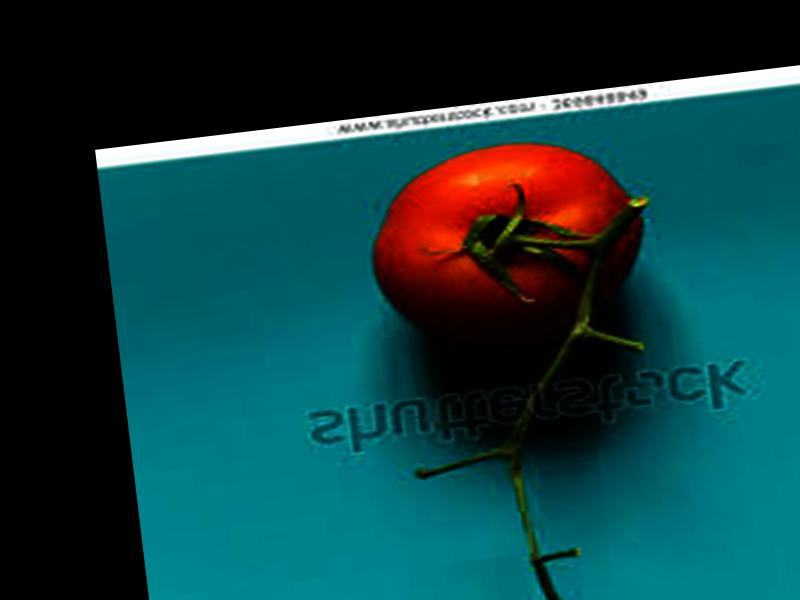Tomato: (363, 132, 655, 355)
